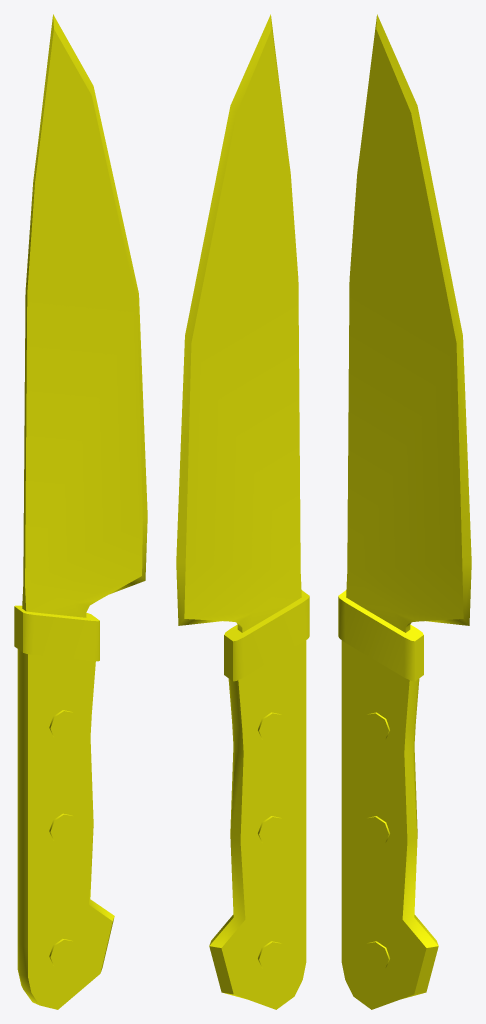
3 renders of one model, left to right at view 1: azimuth 30°, elevation 25°; view 2: azimuth 210°, elevation 25°; view 3: azimuth 330°, elevation 25°, orthographic.
Visible parts, largest first — view 1: knife_chef_knife_Cube.005; view 2: knife_chef_knife_Cube.005; view 3: knife_chef_knife_Cube.005.
Part boxes in pixels (x1,y1,x2,y2): knife_chef_knife_Cube.005: [14, 14, 147, 1009]; knife_chef_knife_Cube.005: [176, 14, 309, 1009]; knife_chef_knife_Cube.005: [338, 14, 471, 1009].
Size of the model in its own units: 1.03 by 7.57 by 0.1754.
Materials: 1 (1 with a texture image).
